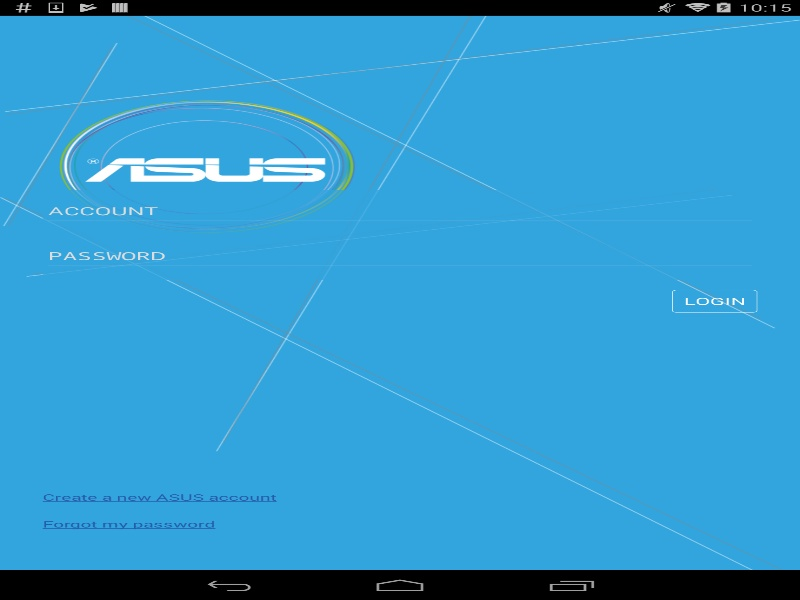Button: (672, 290, 757, 312)
Input: (42, 197, 757, 226), (42, 242, 757, 271)
